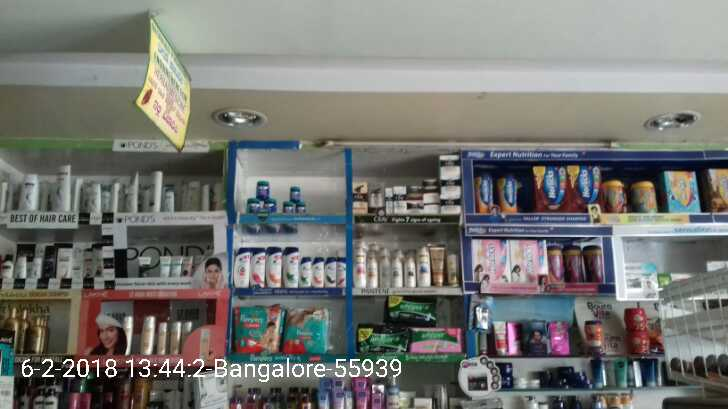beauty: (348, 176, 366, 220), (233, 248, 251, 287), (265, 244, 281, 287), (250, 250, 266, 290), (281, 246, 297, 286), (351, 248, 367, 288), (437, 156, 463, 180), (439, 180, 464, 201), (417, 249, 429, 289), (437, 197, 458, 217), (403, 255, 414, 292), (311, 259, 325, 287), (300, 256, 311, 288), (398, 186, 409, 216), (391, 256, 401, 287), (328, 258, 336, 284)
pharmacy: (229, 305, 285, 356), (284, 310, 331, 353), (381, 292, 434, 324), (354, 322, 409, 352), (410, 329, 464, 352), (255, 179, 272, 200), (289, 185, 302, 204), (249, 199, 263, 216), (283, 201, 297, 217)
